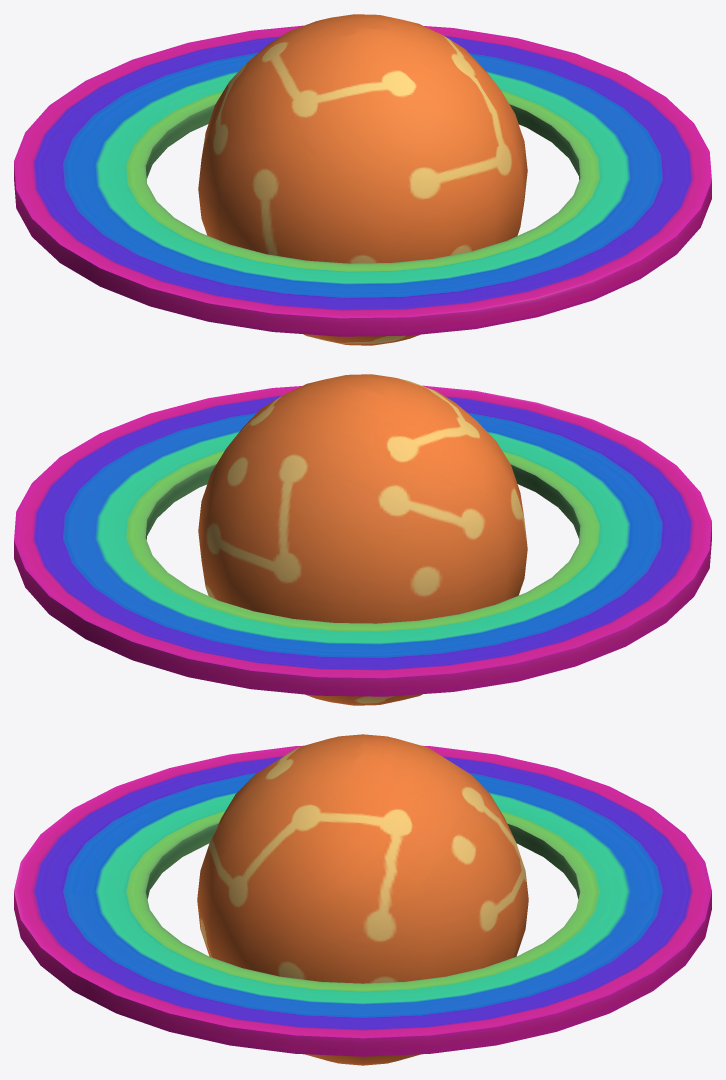
Rendered from Planet.fbx.
3 views of the same model, one above another, from view 1: azimuth 30°, elevation 25°; view 2: azimuth 150°, elevation 25°; view 3: azimuth 270°, elevation 25° (orthographic).
Visible parts, largest first — view 1: PRP_S04_Planet_0; view 2: PRP_S04_Planet_0; view 3: PRP_S04_Planet_0.
Boxes of the visible parts, x1,y1,x2,y2 form: PRP_S04_Planet_0: [14, 14, 711, 345]; PRP_S04_Planet_0: [14, 374, 711, 705]; PRP_S04_Planet_0: [14, 734, 711, 1065].
Bounding box in the file's own units: 26.73 × 12.7 × 26.73.
